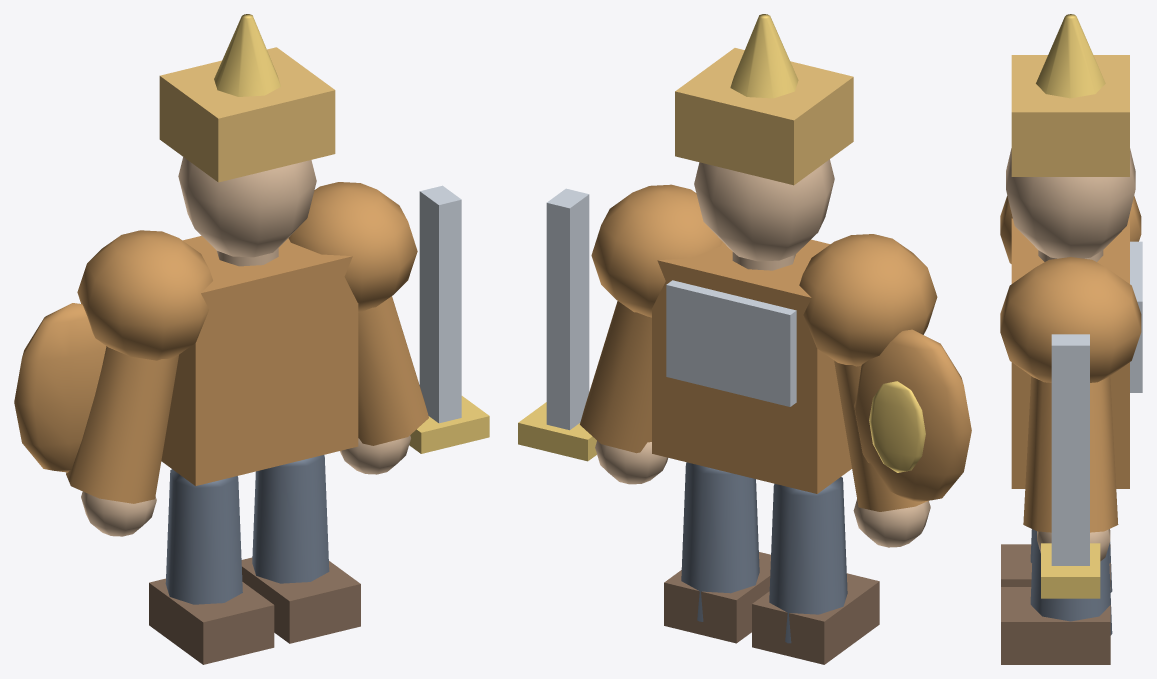
File: transknight.glb
3 renders of one model, left to right at view 1: azimuth 30°, elevation 25°; view 2: azimuth 150°, elevation 25°; view 3: azimuth 270°, elevation 25°, orthographic.
Visible parts, largest first — view 1: Torso, Helmet, Shoulder_-1, Arm_-1, Shield, Shoulder_1, SwordBlade, Head, Leg_-1, Leg_1, Arm_1, Boot_-1 (+5 smaller); view 2: Torso, Helmet, Shoulder_-1, ChestPlate, Shield, SwordBlade, Shoulder_1, Head, Leg_-1, Leg_1, Arm_1, Boot_-1 (+7 smaller); view 3: Shoulder_1, Helmet, SwordBlade, Head, Arm_1, Torso, Boot_1, HelmetCrest, Leg_1, SwordHilt, ChestPlate, Boot_-1 (+2 smaller).
Boxes of the visible parts, x1=… form: Torso: x1=161, y1=236, x2=358, y2=485; Helmet: x1=159, y1=47, x2=335, y2=182; Shoulder_-1: x1=77, y1=230, x2=212, y2=360; Arm_-1: x1=66, y1=346, x2=178, y2=503; Shield: x1=14, y1=303, x2=106, y2=472; Shoulder_1: x1=288, y1=182, x2=417, y2=312; SwordBlade: x1=419, y1=185, x2=461, y2=423; Head: x1=178, y1=157, x2=316, y2=257; Leg_-1: x1=165, y1=469, x2=242, y2=604; Leg_1: x1=252, y1=455, x2=329, y2=583; Arm_1: x1=358, y1=296, x2=428, y2=445; Boot_-1: x1=149, y1=578, x2=274, y2=664; Torso: x1=652, y1=239, x2=851, y2=493; Helmet: x1=675, y1=48, x2=853, y2=185; Shoulder_-1: x1=799, y1=234, x2=937, y2=366; ChestPlate: x1=666, y1=280, x2=796, y2=406; Shield: x1=854, y1=329, x2=971, y2=502; SwordBlade: x1=546, y1=188, x2=589, y2=430; Shoulder_1: x1=591, y1=184, x2=722, y2=317; Head: x1=694, y1=159, x2=834, y2=261; Leg_-1: x1=769, y1=477, x2=847, y2=643; Leg_1: x1=681, y1=462, x2=759, y2=621; Arm_1: x1=580, y1=301, x2=651, y2=453; Boot_-1: x1=752, y1=573, x2=879, y2=664; Shoulder_1: x1=1000, y1=257, x2=1141, y2=382; Helmet: x1=1011, y1=55, x2=1129, y2=176; SwordBlade: x1=1051, y1=334, x2=1089, y2=565; Head: x1=1006, y1=148, x2=1135, y2=258; Arm_1: x1=1023, y1=376, x2=1118, y2=532; Torso: x1=1011, y1=218, x2=1129, y2=488; Boot_1: x1=1001, y1=587, x2=1110, y2=664; HelmetCrest: x1=1036, y1=14, x2=1105, y2=98; Leg_1: x1=1030, y1=530, x2=1112, y2=635; SwordHilt: x1=1041, y1=543, x2=1100, y2=598; ChestPlate: x1=1130, y1=241, x2=1142, y2=392; Boot_-1: x1=1001, y1=544, x2=1110, y2=586.
Bounding box in the file's own units: 1.76 × 2.27 × 0.4803.
